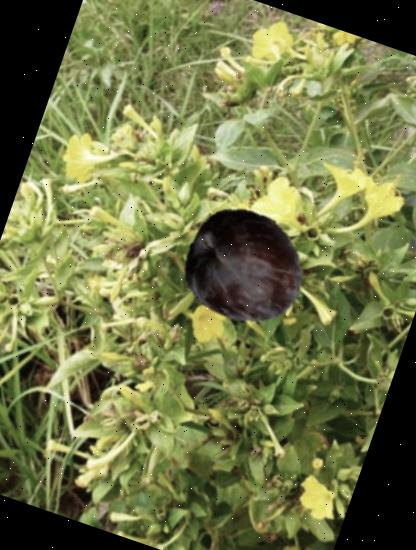Plum: (169, 190, 324, 344)
